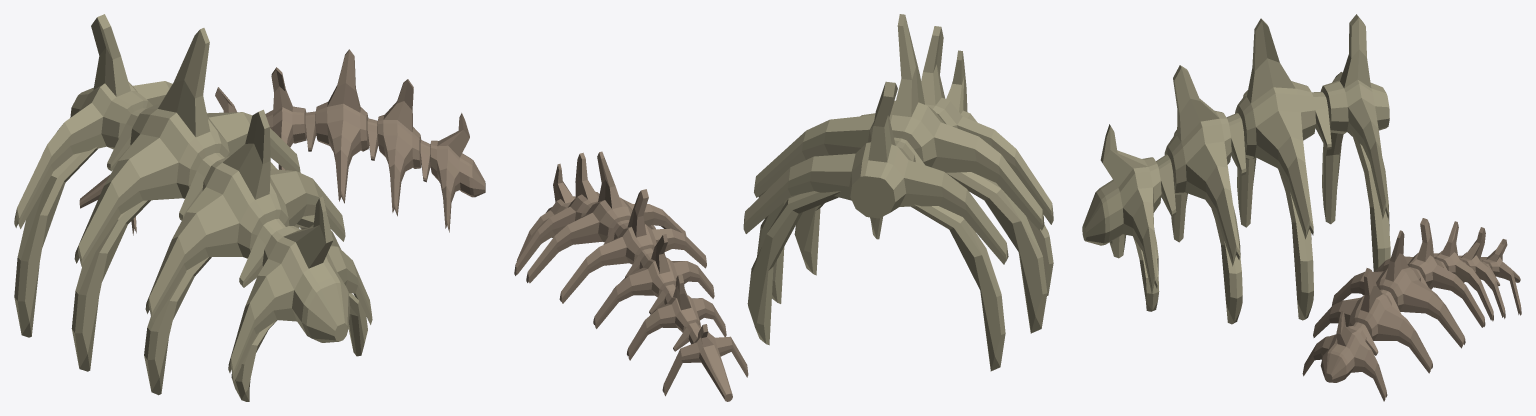
The model's file is dragons_bones_Set2.fbx.
The picture shows the model from 3 angles, left to right: view 1: azimuth 30°, elevation 25°; view 2: azimuth 150°, elevation 25°; view 3: azimuth 270°, elevation 25°; orthographic projection. The views are drawn at different scales.
Visible parts, largest first — view 1: Cylinder.023; view 2: Cylinder.023; view 3: Cylinder.023.
Boxes of the visible parts, x1,y1,x2,y2 form: Cylinder.023: (14,14,485,401); Cylinder.023: (514,14,1053,401); Cylinder.023: (1082,14,1521,401).
Size of the model in its own units: 1926 by 1198 by 1823.
